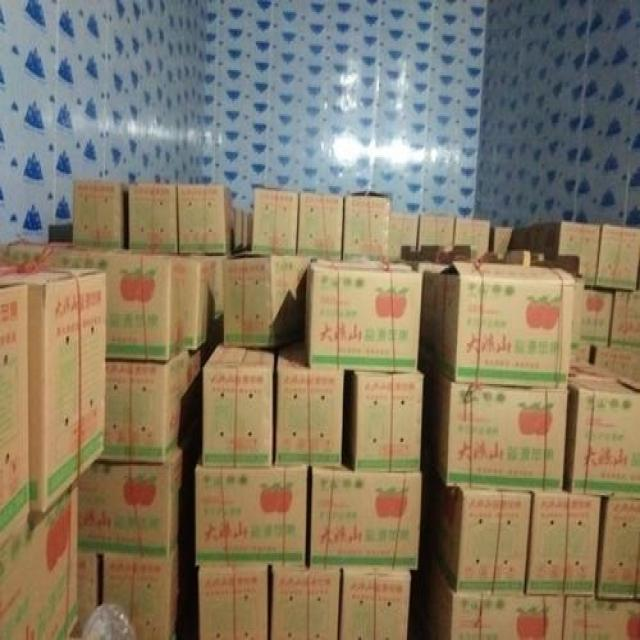box: (0, 266, 108, 515), (8, 241, 184, 362), (431, 261, 575, 387), (435, 372, 567, 493), (306, 259, 424, 370), (78, 437, 186, 558), (196, 461, 310, 568), (307, 466, 421, 570), (435, 480, 531, 594), (104, 350, 188, 466), (431, 568, 564, 640), (274, 336, 344, 466), (563, 379, 640, 497), (202, 345, 275, 468), (524, 493, 603, 597), (29, 478, 79, 640), (223, 253, 307, 348), (348, 372, 424, 473), (0, 285, 29, 546), (102, 546, 179, 640), (197, 565, 269, 640), (338, 570, 412, 640), (270, 568, 340, 640), (529, 220, 600, 287), (596, 497, 640, 599), (178, 184, 233, 254), (73, 181, 128, 249), (342, 189, 392, 261), (128, 183, 178, 253), (251, 188, 300, 253), (564, 599, 640, 640), (298, 191, 344, 258), (598, 225, 640, 290), (453, 218, 492, 263), (419, 215, 456, 246)
